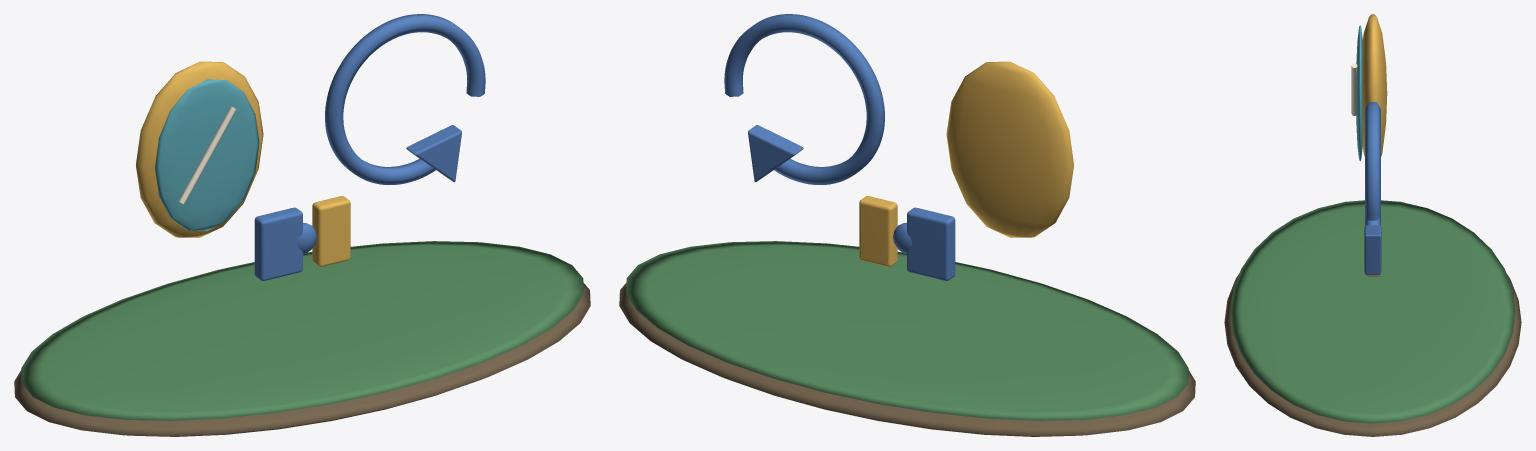
Rendered from complete-second-changing-self-shape.glb.
3 renders of one model, left to right at view 1: azimuth 30°, elevation 25°; view 2: azimuth 150°, elevation 25°; view 3: azimuth 270°, elevation 25°, orthographic. The views are drawn at different scales.
Parts seen in each view (by area): view 1: complete-second-changing-self-shape_surface_01, complete-second-changing-self-shape_surface_05, complete-second-changing-self-shape_surface_03, complete-second-changing-self-shape_surface_00, complete-second-changing-self-shape_surface_02, complete-second-changing-self-shape_surface_04; view 2: complete-second-changing-self-shape_surface_01, complete-second-changing-self-shape_surface_02, complete-second-changing-self-shape_surface_05, complete-second-changing-self-shape_surface_00; view 3: complete-second-changing-self-shape_surface_01, complete-second-changing-self-shape_surface_00, complete-second-changing-self-shape_surface_05, complete-second-changing-self-shape_surface_02, complete-second-changing-self-shape_surface_03.
Boxes of the visible parts, x1,y1,x2,y2 form: complete-second-changing-self-shape_surface_01: (21,241,583,420); complete-second-changing-self-shape_surface_05: (254,14,485,280); complete-second-changing-self-shape_surface_03: (155,79,259,231); complete-second-changing-self-shape_surface_00: (14,283,590,436); complete-second-changing-self-shape_surface_02: (136,61,350,266); complete-second-changing-self-shape_surface_04: (178,106,236,204); complete-second-changing-self-shape_surface_01: (626,241,1188,420); complete-second-changing-self-shape_surface_02: (859,61,1073,266); complete-second-changing-self-shape_surface_05: (724,14,955,280); complete-second-changing-self-shape_surface_00: (619,283,1195,436); complete-second-changing-self-shape_surface_01: (1230,200,1515,423); complete-second-changing-self-shape_surface_00: (1224,274,1521,436); complete-second-changing-self-shape_surface_05: (1364,102,1381,274); complete-second-changing-self-shape_surface_02: (1362,14,1387,276); complete-second-changing-self-shape_surface_03: (1356,25,1362,160).
Bounding box in the file's own units: 4.56 × 2.56 × 2.5.
